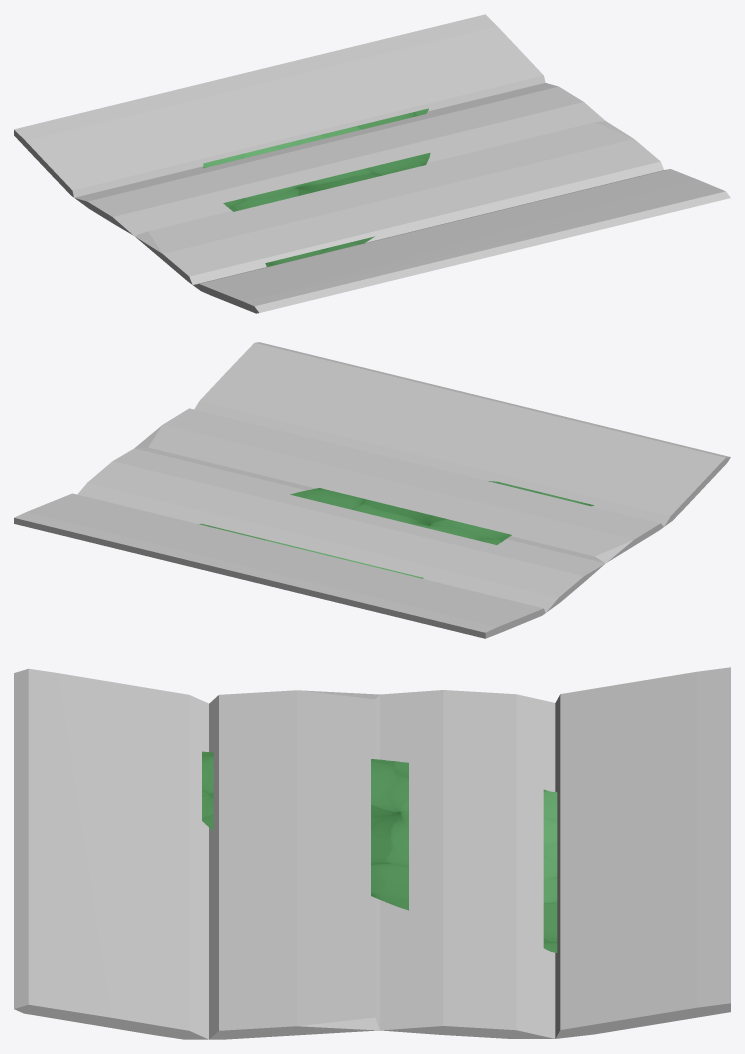
File: SM_Leaf.fbx
The picture shows the model from 3 angles, top to bottom: view 1: azimuth 30°, elevation 25°; view 2: azimuth 150°, elevation 25°; view 3: azimuth 270°, elevation 25°; orthographic projection. The views are drawn at different scales.
Parts seen in each view (by area): view 1: SM_Leaf_ConvexHulls, SM_Leaf; view 2: SM_Leaf_ConvexHulls, SM_Leaf; view 3: SM_Leaf_ConvexHulls, SM_Leaf.
Boxes of the visible parts, bbox=[...] form: SM_Leaf_ConvexHulls: bbox=[14, 14, 730, 313]; SM_Leaf: bbox=[203, 108, 430, 266]; SM_Leaf_ConvexHulls: bbox=[14, 342, 730, 638]; SM_Leaf: bbox=[198, 481, 594, 578]; SM_Leaf_ConvexHulls: bbox=[14, 667, 730, 1039]; SM_Leaf: bbox=[202, 751, 557, 952].
Bounding box in the file's own units: 50.31 × 45.37 × 2.55.
Materials: 2 (1 with a texture image).
